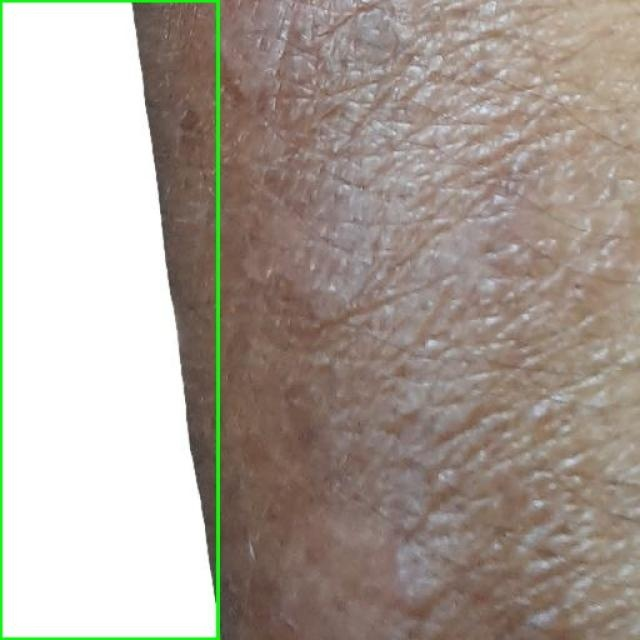Tinea Corporis: (0, 0, 218, 639)
